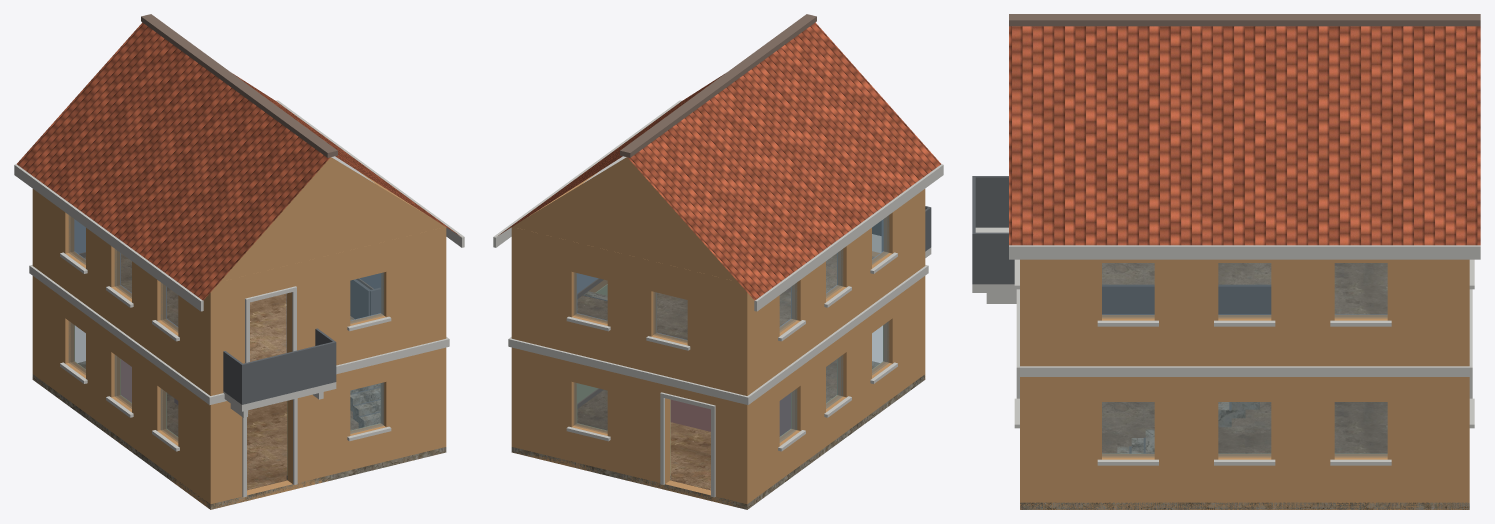
Rendered from cove-house-orange.coast-v1.lod0.glb.
The picture shows the model from 3 angles, left to right: view 1: azimuth 30°, elevation 25°; view 2: azimuth 150°, elevation 25°; view 3: azimuth 270°, elevation 25°; orthographic projection. The views are drawn at different scales.
Parts seen in each view (by area): view 1: cove-house-orange; view 2: cove-house-orange; view 3: cove-house-orange.
Boxes of the visible parts, box(x1,y1,x2,y2) form: cove-house-orange: box(14, 14, 464, 509); cove-house-orange: box(493, 14, 943, 509); cove-house-orange: box(972, 14, 1480, 509).
Size of the model in its own units: 7.28 by 8.77 by 9.61.
Materials: 5 (3 with a texture image).
